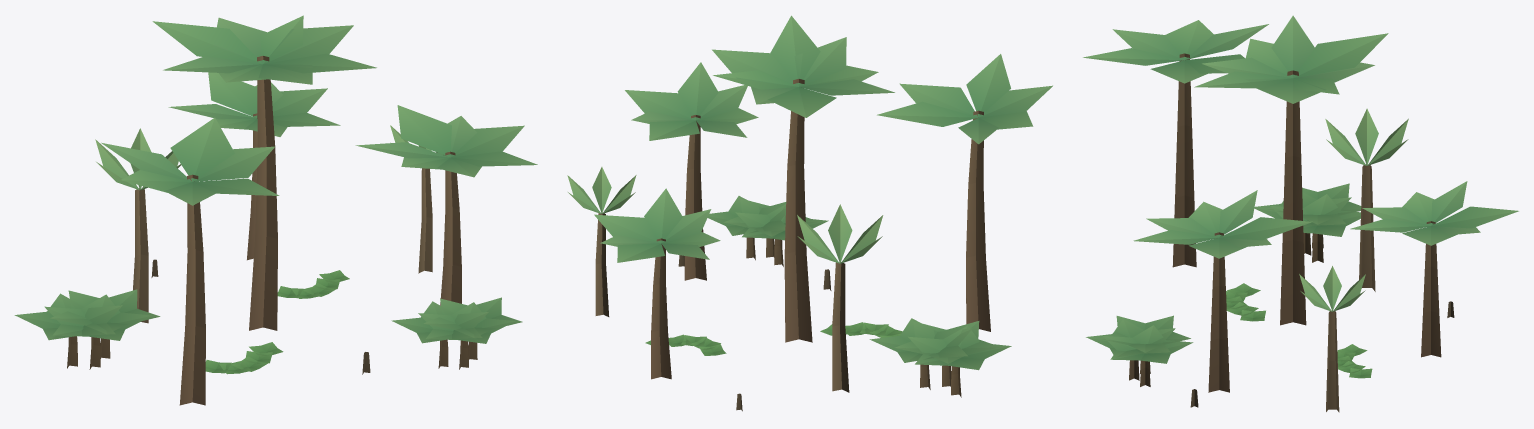
File: n64_florida_keys_palms.gltf
The picture shows the model from 3 angles, left to right: view 1: azimuth 30°, elevation 25°; view 2: azimuth 150°, elevation 25°; view 3: azimuth 270°, elevation 25°; orthographic projection. The views are drawn at different scales.
Parts seen in each view (by area): view 1: N64_Tropical_Plants; view 2: N64_Tropical_Plants; view 3: N64_Tropical_Plants.
Boxes of the visible parts, left/top/right/bottom form: N64_Tropical_Plants: left=14, top=15, right=537, bottom=405; N64_Tropical_Plants: left=567, top=15, right=1052, bottom=411; N64_Tropical_Plants: left=1083, top=15, right=1518, bottom=412.
Bounding box in the file's own units: 9.56 × 6.06 × 8.88.
